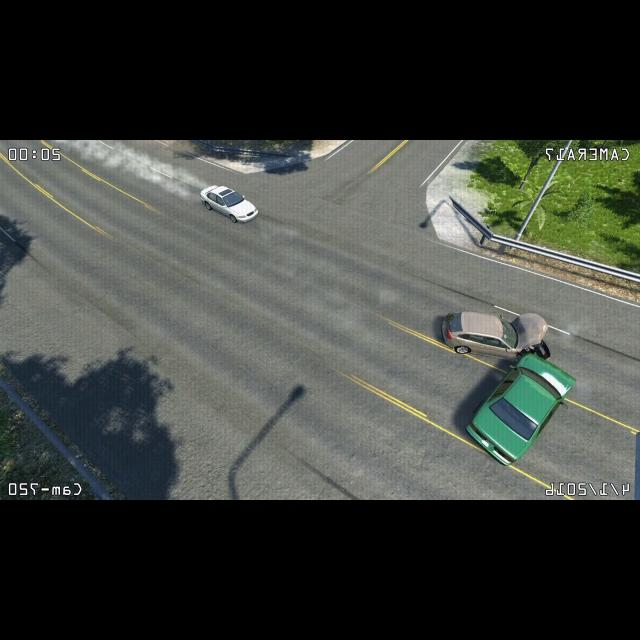accident: (439, 305, 578, 470)
